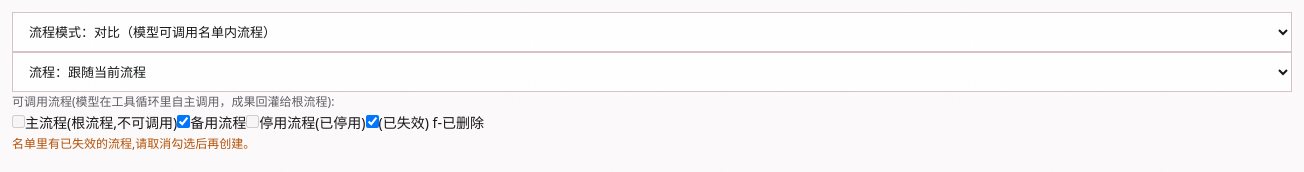
Scenario: TaskFlowSelect:对比模式(二维批次 7b) › 持久化名单里已失效的流程如实展示、可取消勾选,并给出警示
Note: 取消失效项:警示消失,余下名单保持
Click the checkbox labelled "(已失效) f-已删除" at (372, 121), box [366, 115, 379, 128]
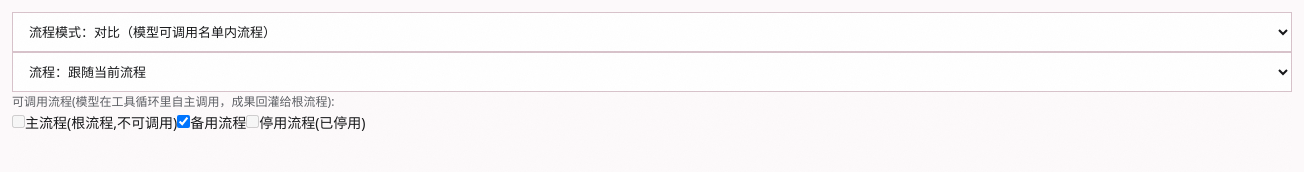
Check: the text "已失效的流程" is gone
